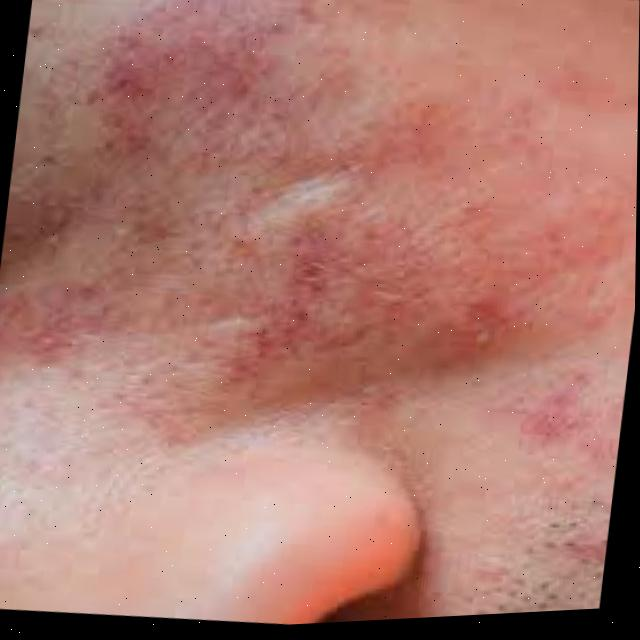Eczema: (50, 45, 573, 404)
